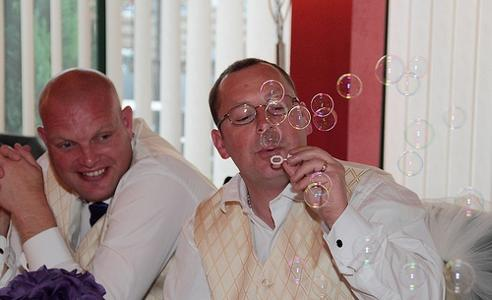person: (163, 58, 448, 300)
